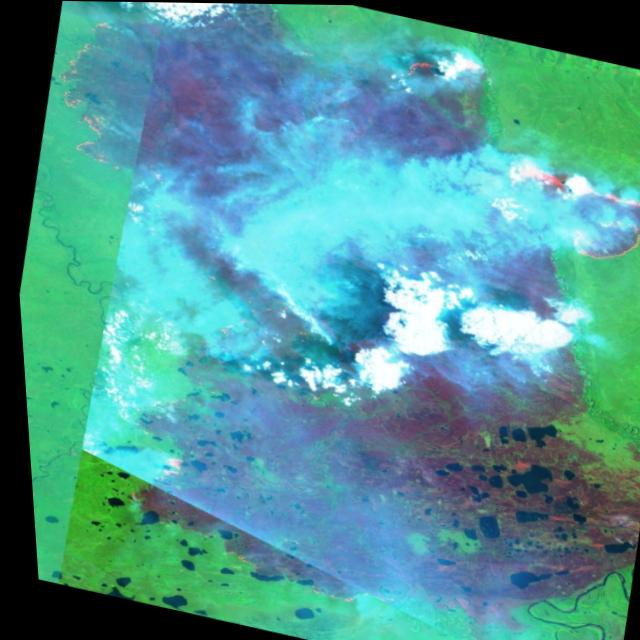fire: (88, 439, 447, 625), (25, 0, 208, 199), (479, 149, 640, 280), (389, 41, 467, 101)
